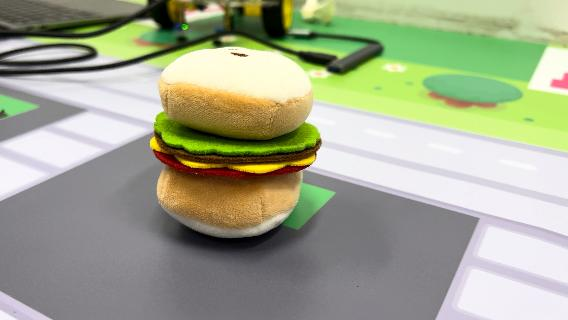sandwich: (148, 44, 324, 240)
